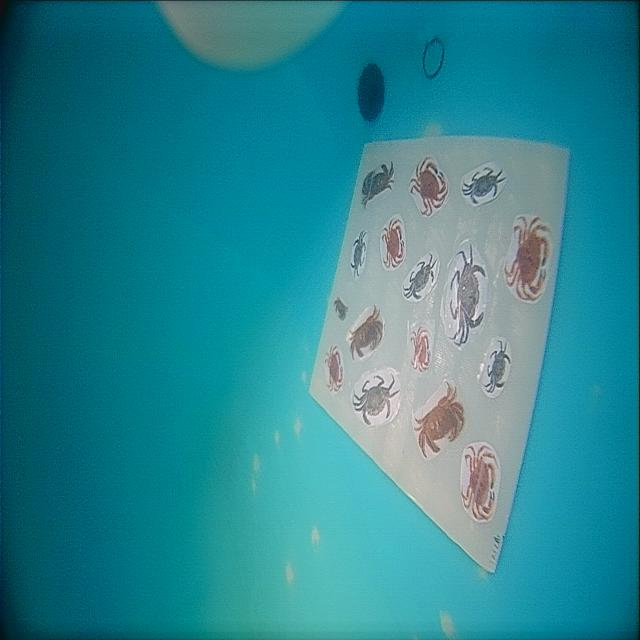GreenCrab: (450, 244, 485, 345), (353, 375, 399, 425), (463, 167, 506, 204), (403, 254, 437, 299), (485, 340, 511, 393)
